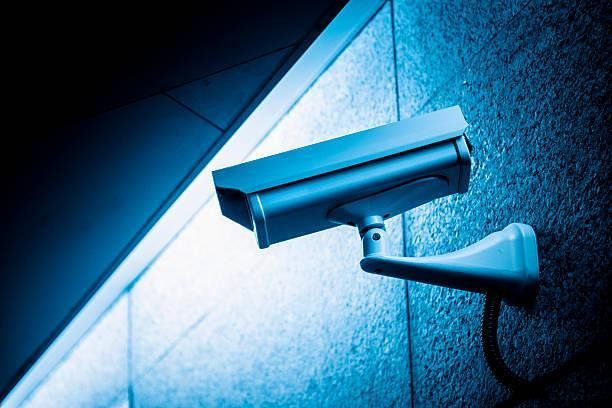camera: (174, 97, 492, 258)
